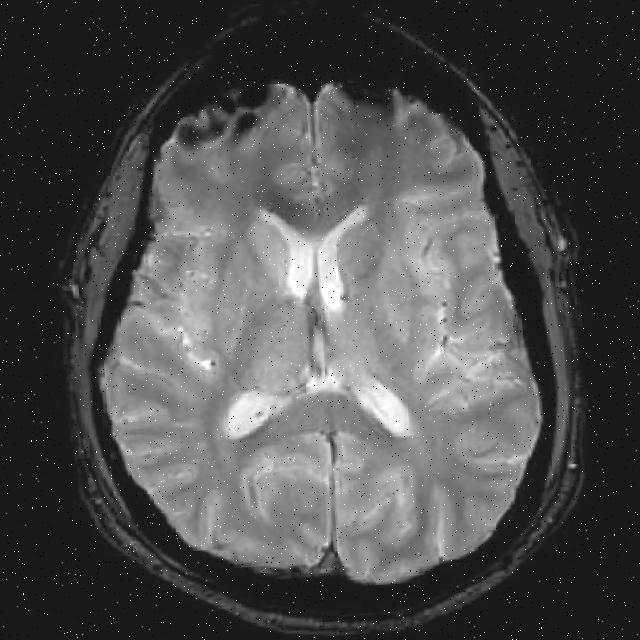EMCI: (222, 453, 284, 497)
LMCI: (161, 192, 247, 400)
MCI: (400, 218, 496, 402)
